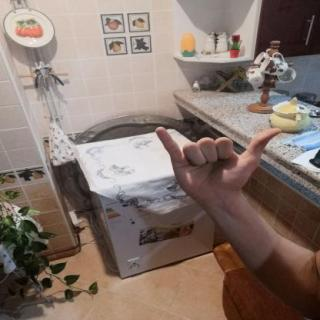YA: (146, 116, 292, 209)
